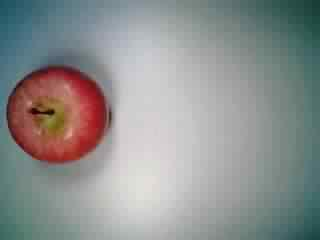apple: (6, 62, 112, 166)
